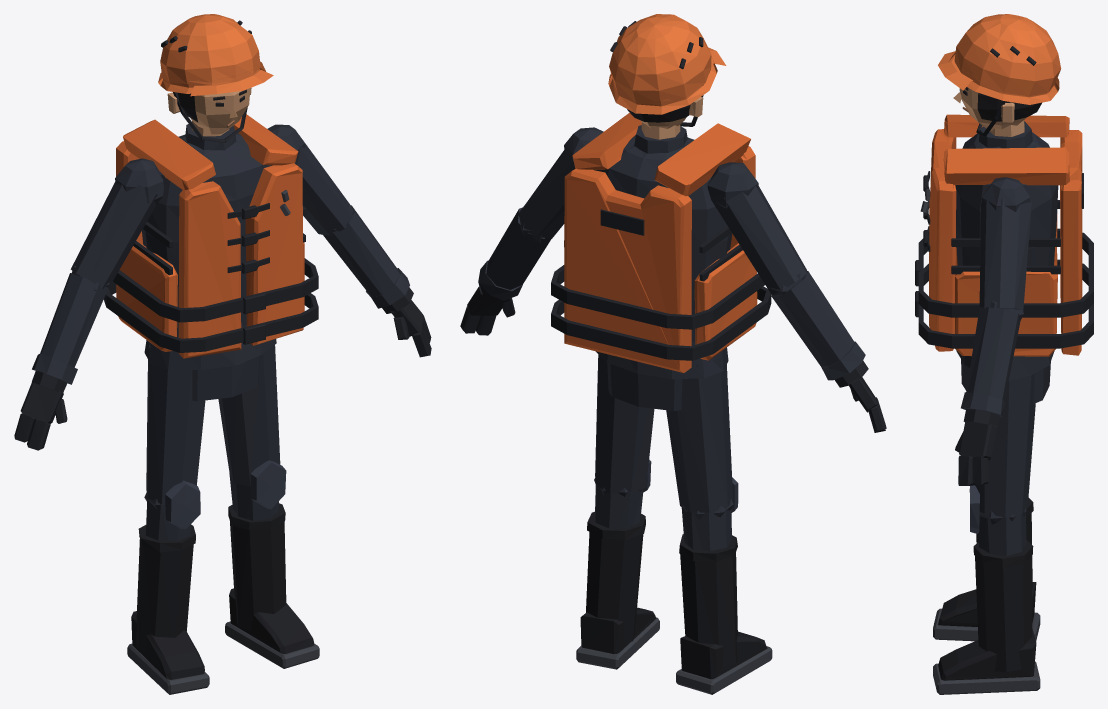
Rendered from water_rescue_responder.glb.
3 renders of one model, left to right at view 1: azimuth 30°, elevation 25°; view 2: azimuth 150°, elevation 25°; view 3: azimuth 270°, elevation 25°, orthographic. The views are drawn at different scales.
Parts seen in each view (by area): view 1: jacket, life_vest, pants, boots, straps_buckles, helmet, gloves, knee_pads, soles, head; view 2: life_vest, jacket, pants, boots, straps_buckles, helmet, gloves, soles, head; view 3: life_vest, jacket, boots, helmet, pants, straps_buckles, soles, gloves, head, hair, knee_pads.
Boxes of the visible parts, x1,y1,x2,y2 form: jacket: (32,124,409,384); life_vest: (116,114,304,358); pants: (144,325,280,540); boots: (131,503,314,679); straps_buckles: (103,203,318,352); helmet: (158,14,273,96); gloves: (14,287,431,450); knee_pads: (165,460,286,529); soles: (127,621,319,694); head: (167,87,251,136); life_vest: (564,112,757,372); jacket: (478,125,865,380); pants: (594,354,733,551); boots: (580,511,767,679); straps_buckles: (551,209,771,360); helmet: (608,14,726,114); gloves: (460,283,886,432); soles: (576,617,772,694); head: (640,97,703,139); life_vest: (929,114,1082,356); jacket: (955,121,1058,417); boots: (938,497,1036,680); helmet: (938,14,1061,104); pants: (961,359,1050,555); straps_buckles: (915,171,1093,348); soles: (933,608,1040,694); gloves: (955,409,999,485); head: (953,88,1026,136); hair: (977,93,1041,121); knee_pads: (969,485,979,533).
Bounding box in the file's own units: 1.28 × 1.87 × 0.473.
